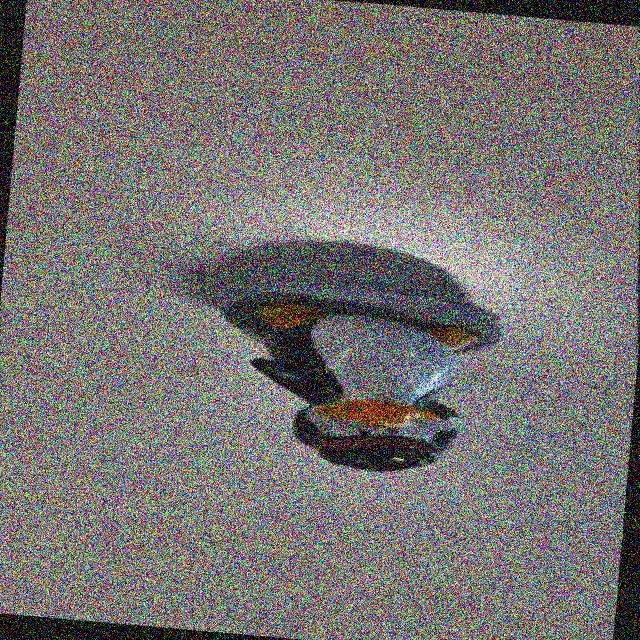Penguin: (169, 263, 537, 492)
